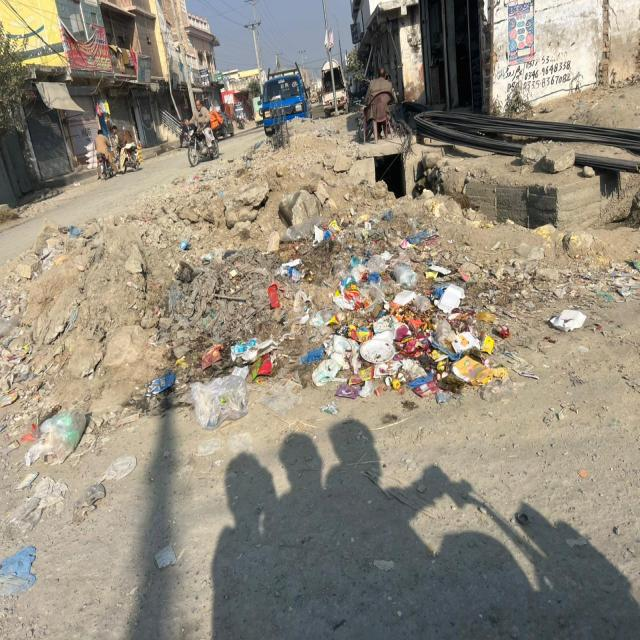garbage: (144, 245, 499, 430)
